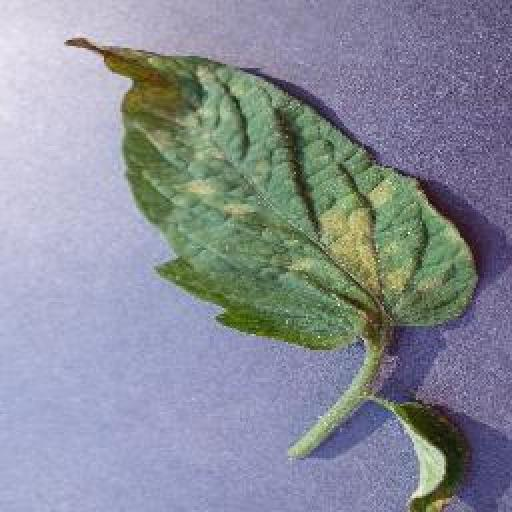disease_tomato: (73, 37, 480, 352)
